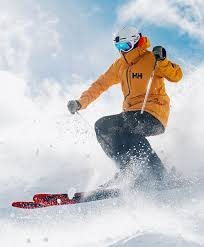skis: (11, 186, 131, 209)
